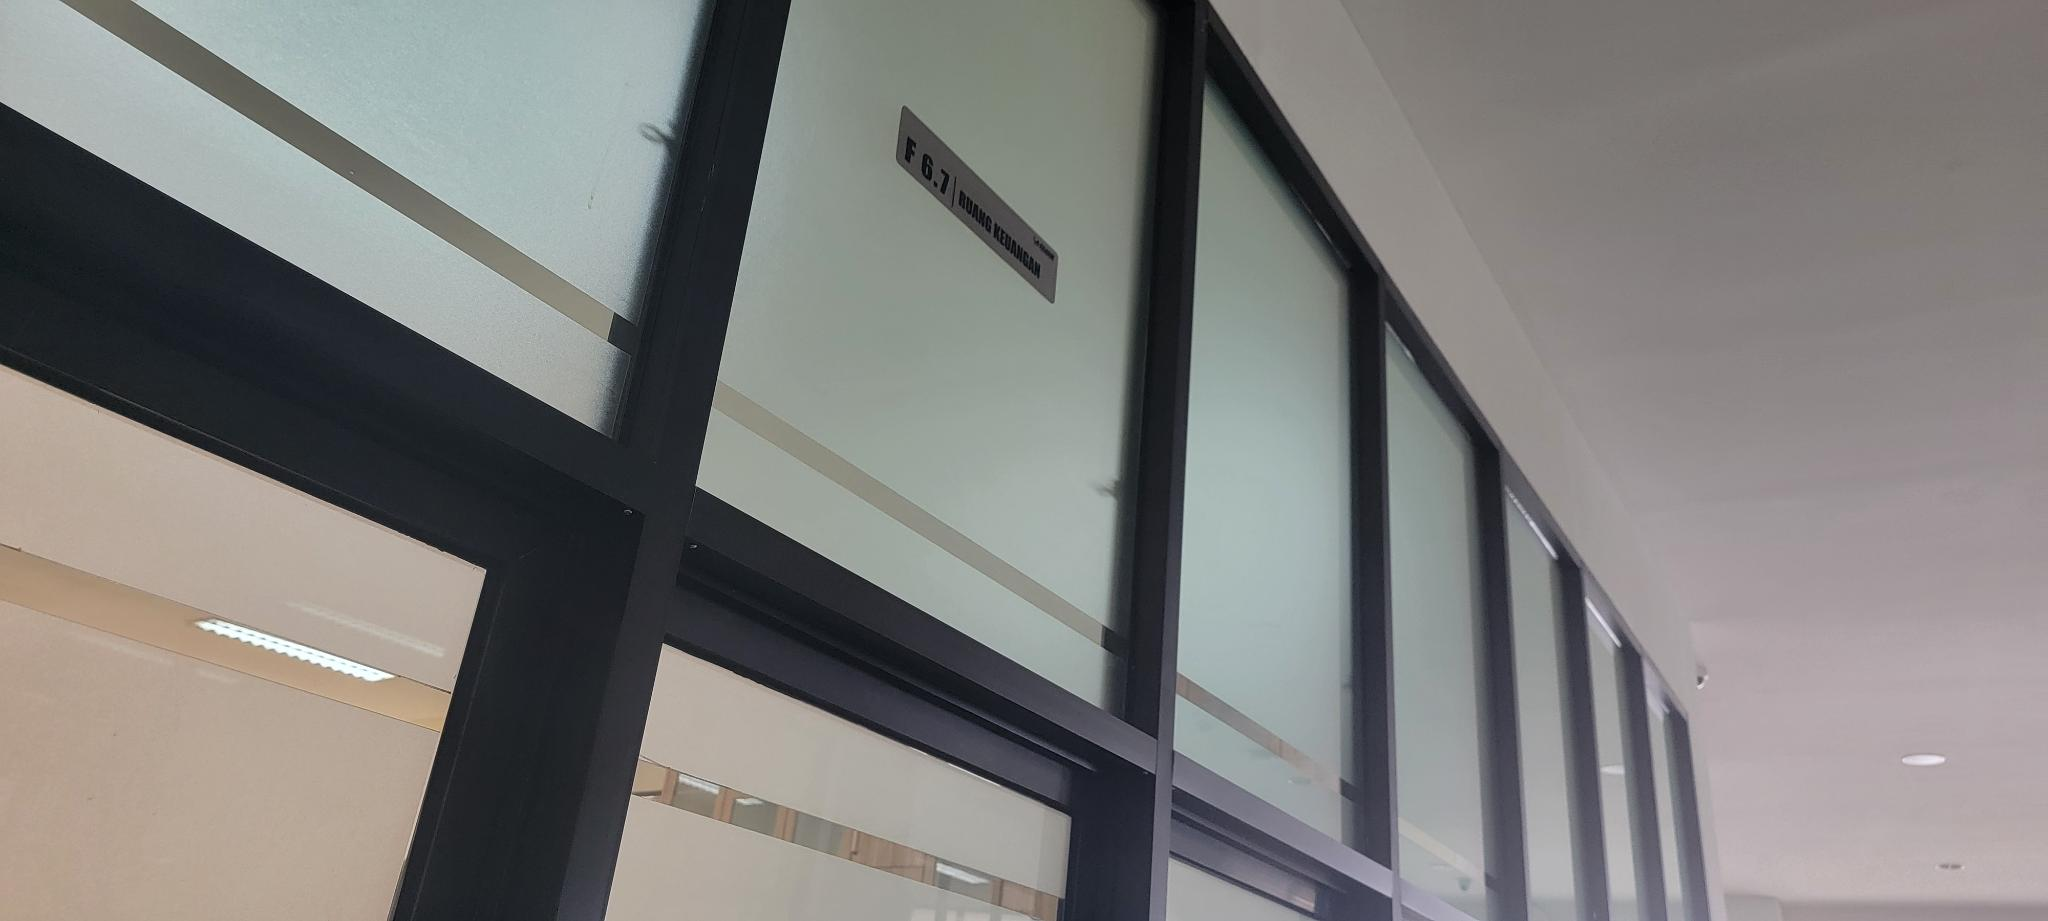plate: (895, 105, 1059, 306)
